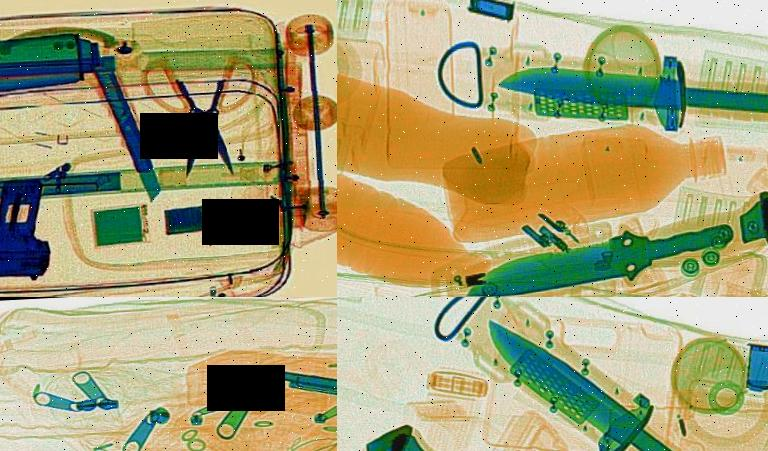Gun: (235, 351, 337, 424), (0, 174, 54, 288)
Knife: (467, 297, 768, 451), (481, 24, 768, 158), (450, 208, 750, 297)
Scissors: (138, 50, 264, 188)
